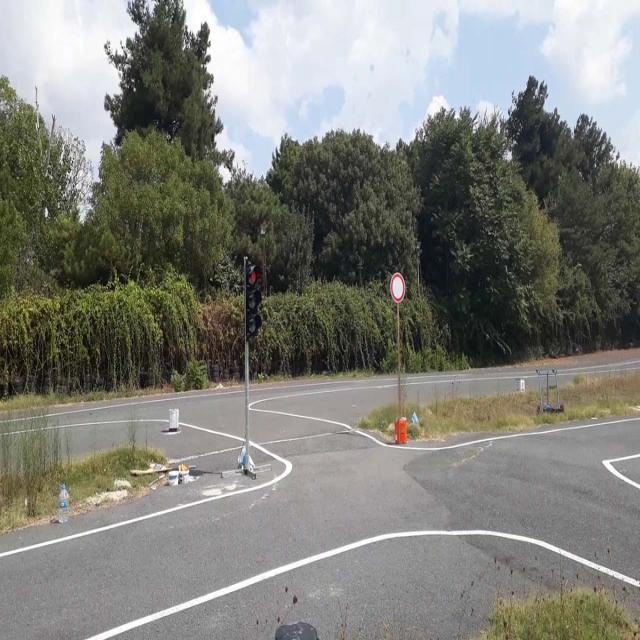kirmizi: (245, 265, 259, 337)
